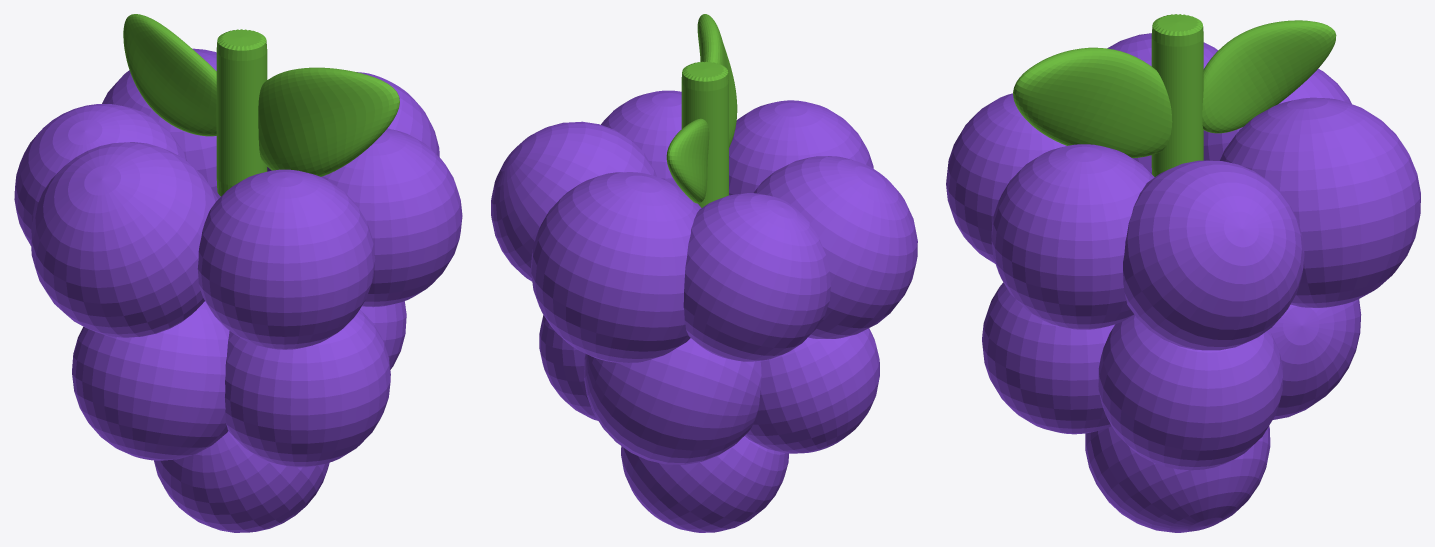
File: grapes.glb
3 views of the same model, side by side, from view 1: azimuth 30°, elevation 25°; view 2: azimuth 150°, elevation 25°; view 3: azimuth 270°, elevation 25° (orthographic). The views are drawn at different scales.
Visible parts, largest first — view 1: raisin; view 2: raisin; view 3: raisin.
Boxes of the visible parts, <box> form: raisin: <box>14,14,462,532</box>; raisin: <box>491,14,917,532</box>; raisin: <box>946,14,1420,532</box>.
Bounding box in the file's own units: 0.0844 × 0.0964 × 0.0826.
